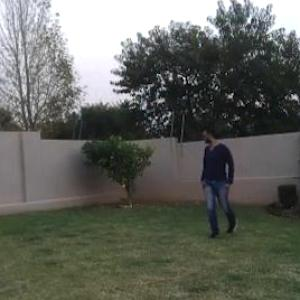follow: (193, 116, 240, 256)
